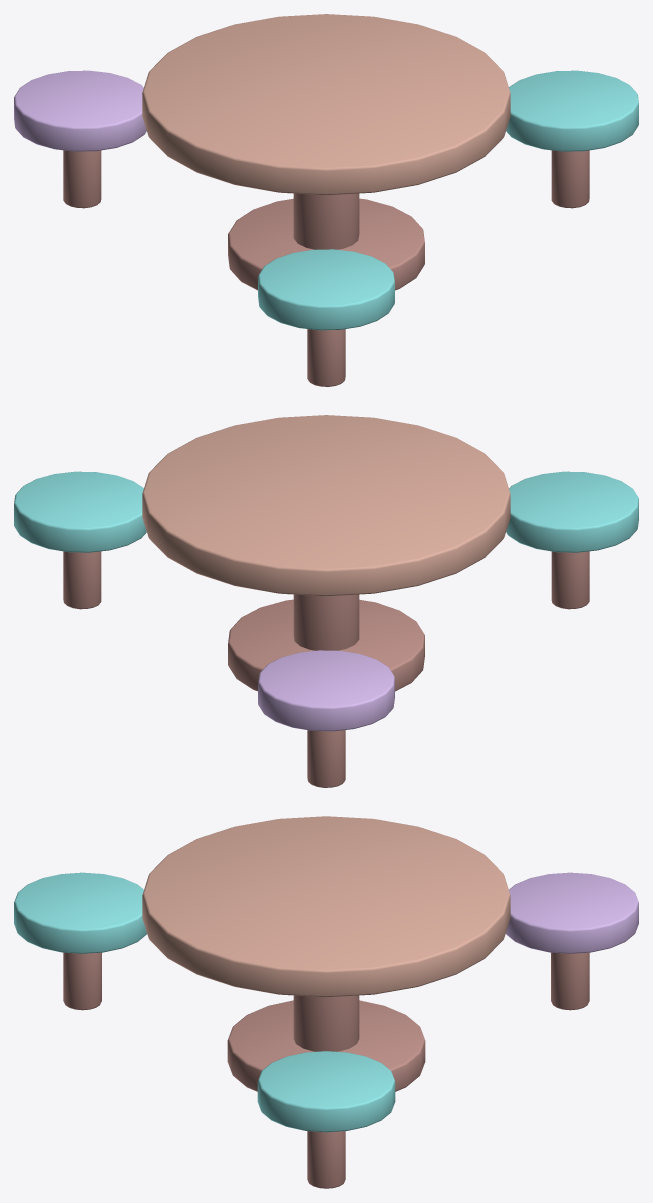
File: kitchen_table_set.glb
3 renders of one model, top to bottom at view 1: azimuth 30°, elevation 25°; view 2: azimuth 150°, elevation 25°; view 3: azimuth 270°, elevation 25°, orthographic.
Visible parts, largest first — view 1: TableTop, StoolSeat_2, StoolSeat_1, StoolSeat_0, TableFoot, TableStem, StoolStem_0, StoolStem_1, StoolStem_2; view 2: TableTop, StoolSeat_1, StoolSeat_2, StoolSeat_0, TableFoot, TableStem, StoolStem_0, StoolStem_2, StoolStem_1; view 3: TableTop, StoolSeat_0, StoolSeat_1, StoolSeat_2, TableFoot, TableStem, StoolStem_1, StoolStem_2, StoolStem_0.
Part boxes in pixels (box(x1,y1,x2,y2)): TableTop: box(142, 14, 510, 195); StoolSeat_2: box(258, 249, 394, 330); StoolSeat_1: box(14, 70, 146, 151); StoolSeat_0: box(506, 70, 638, 151); TableFoot: box(228, 198, 424, 290); TableStem: box(293, 193, 359, 249); StoolStem_0: box(551, 150, 589, 208); StoolStem_1: box(63, 150, 101, 208); StoolStem_2: box(307, 329, 345, 386); TableTop: box(142, 415, 510, 596); StoolSeat_1: box(258, 650, 394, 731); StoolSeat_2: box(506, 471, 638, 552); StoolSeat_0: box(14, 471, 146, 552); TableFoot: box(228, 599, 424, 691); TableStem: box(293, 594, 359, 650); StoolStem_0: box(63, 551, 101, 609); StoolStem_2: box(551, 551, 589, 609); StoolStem_1: box(307, 730, 345, 787); TableTop: box(142, 816, 510, 997); StoolSeat_0: box(257, 1051, 395, 1132); StoolSeat_1: box(505, 872, 638, 953); StoolSeat_2: box(14, 872, 147, 953); TableFoot: box(227, 1000, 425, 1091); TableStem: box(293, 995, 359, 1051); StoolStem_1: box(551, 952, 589, 1010); StoolStem_2: box(63, 952, 101, 1010); StoolStem_0: box(307, 1131, 345, 1188).
Bounding box in the file's own units: 4.07 × 1.37 × 4.55.
